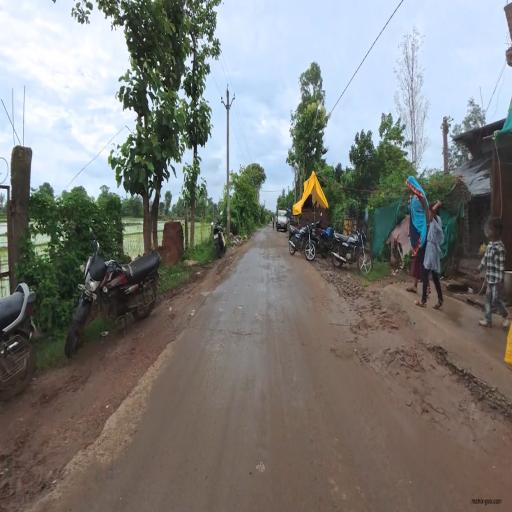edge_damage: (332, 271, 492, 450)
